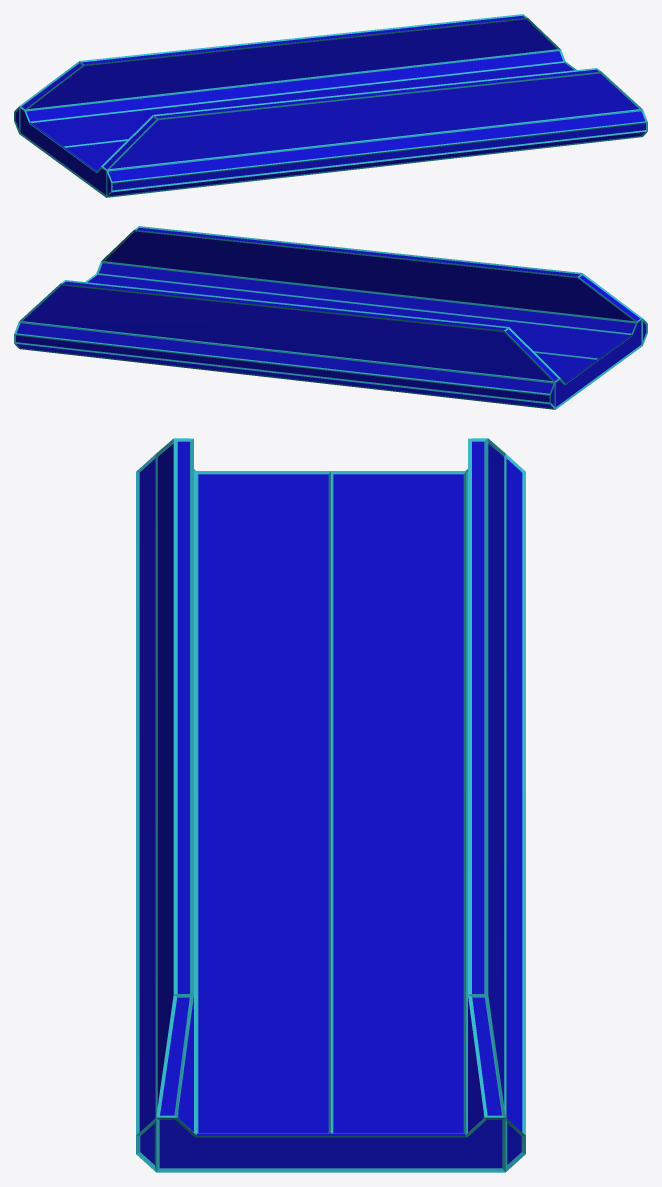
File: struct6.dae
3 renders of one model, top to bottom at view 1: azimuth 30°, elevation 25°; view 2: azimuth 150°, elevation 25°; view 3: azimuth 270°, elevation 25°, orthographic. The views are drawn at different scales.
Visible parts, largest first — view 1: Export_struct6_a, Export_struct6_b; view 2: Export_struct6_a, Export_struct6_b; view 3: Export_struct6_a, Export_struct6_b.
Part boxes in pixels (box(x1,y1,x2,y2)): Export_struct6_a: box(15, 15, 645, 196); Export_struct6_b: box(14, 14, 647, 197); Export_struct6_a: box(16, 227, 646, 408); Export_struct6_b: box(14, 226, 647, 409); Export_struct6_a: box(139, 441, 522, 1168); Export_struct6_b: box(136, 438, 525, 1172).
Size of what is drawn, in the model's own units: 128 by 40.36 by 30.31.
